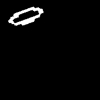chain: (9, 7, 42, 24)
